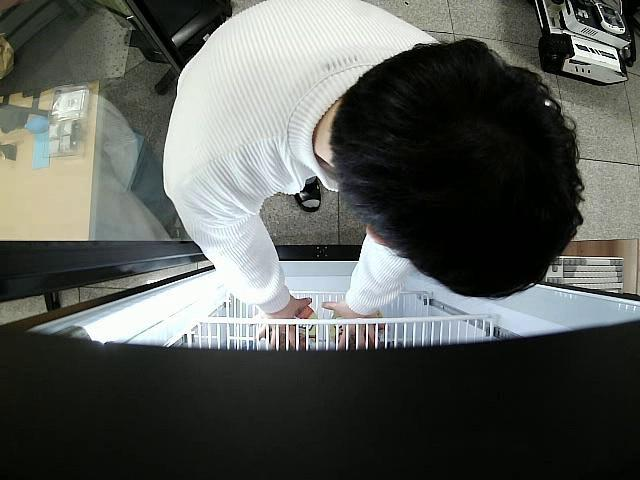03_chapagetti_L: (264, 308, 318, 351), (330, 309, 384, 350)
